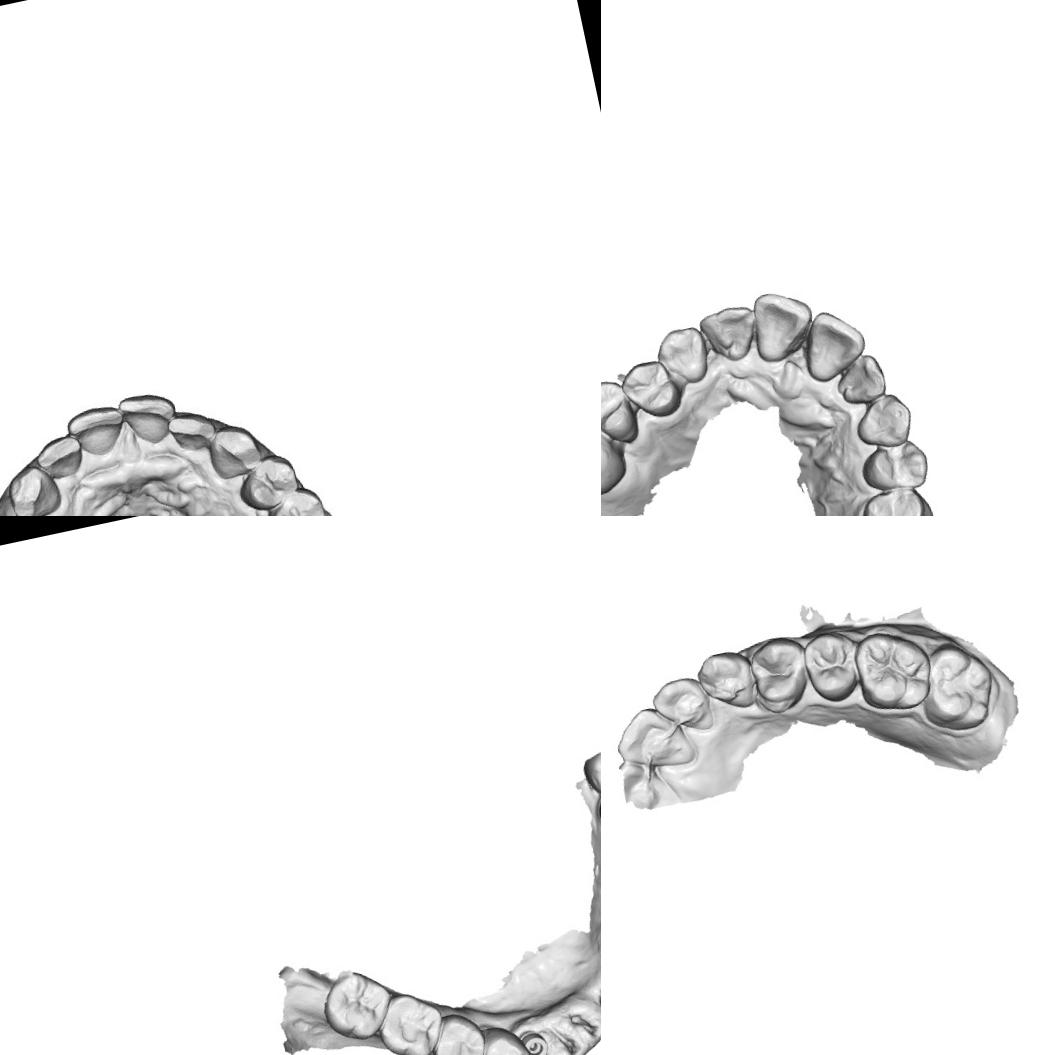canine: (693, 645, 762, 717), (849, 391, 917, 454), (652, 322, 712, 388), (0, 458, 63, 516), (208, 429, 260, 480)
implant: (518, 1028, 550, 1055)
incisor: (608, 698, 698, 778), (795, 304, 872, 386), (746, 283, 822, 364), (647, 671, 717, 741), (695, 302, 760, 368), (116, 388, 181, 448), (830, 350, 891, 410), (67, 404, 128, 460), (168, 408, 222, 457), (35, 436, 86, 480)
molar: (911, 637, 1002, 738), (848, 622, 938, 718), (314, 961, 400, 1047), (371, 985, 450, 1055), (601, 407, 632, 507), (577, 739, 601, 800)
premolar: (744, 631, 818, 718), (798, 624, 868, 707), (614, 354, 686, 426), (855, 435, 933, 500), (235, 452, 304, 514), (601, 374, 643, 452), (426, 1007, 491, 1055), (857, 481, 930, 516), (469, 1018, 537, 1055), (264, 485, 335, 516)
